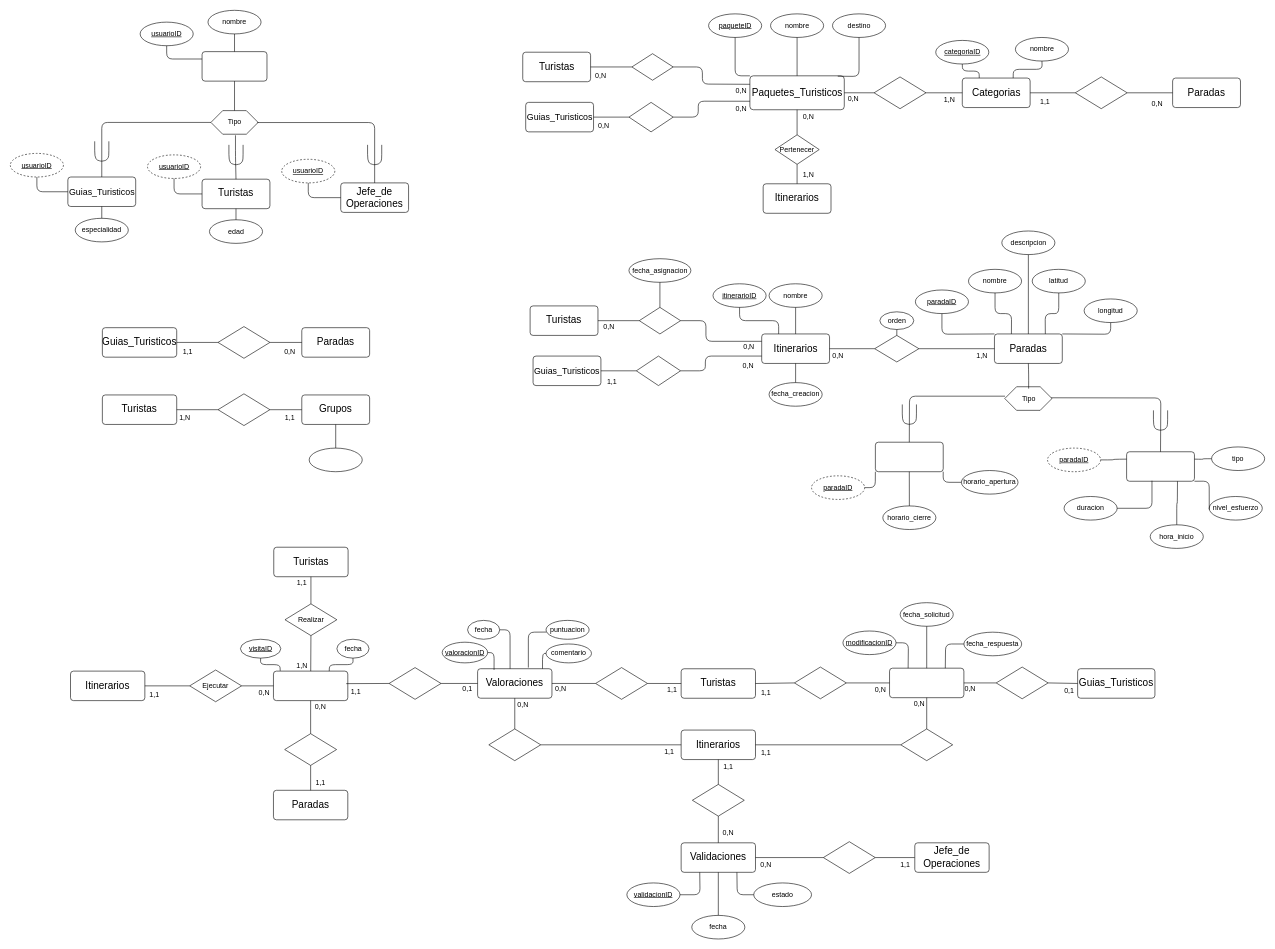
The diagram is 1275 pixels wide and 949 high, and some of its shapes have lost their labels. The centre of each missing label's shape, as x and y in pixels:
"Actividades" belongs at pixel 1160 466.
"Afectar" belongs at pixel 926 744.
"Apoyar" belongs at pixel 1022 682.
"Asignar" belongs at pixel 660 320.
"Asociar" belongs at pixel 310 749.
"Atracciones" belongs at pixel 909 457.
"Auditar" belongs at pixel 849 857.
"Autorizar" belongs at pixel 650 117.
"Clasificar Paquetes" belongs at pixel 899 92.
"Clasificar Paradas" belongs at pixel 1101 92.
"Contener" belongs at pixel 896 348.
"Crear" belongs at pixel 658 370.
"grupoID" belongs at pixel 335 460.
"Incidir" belongs at pixel 718 800.
"Inscribir" belongs at pixel 652 66.
"Matricular" belongs at pixel 243 409.
"Modificaciones" belongs at pixel 926 683.
"Opinar" belongs at pixel 621 683.
"Registrar" belongs at pixel 243 342.
"Solicitar" belongs at pixel 820 682.
"Usuarios" belongs at pixel 234 66.
"Valorar Itinerario" belongs at pixel 514 744.
"Valorar Visita" belongs at pixel 415 683.
"Visitas" belongs at pixel 310 686.
